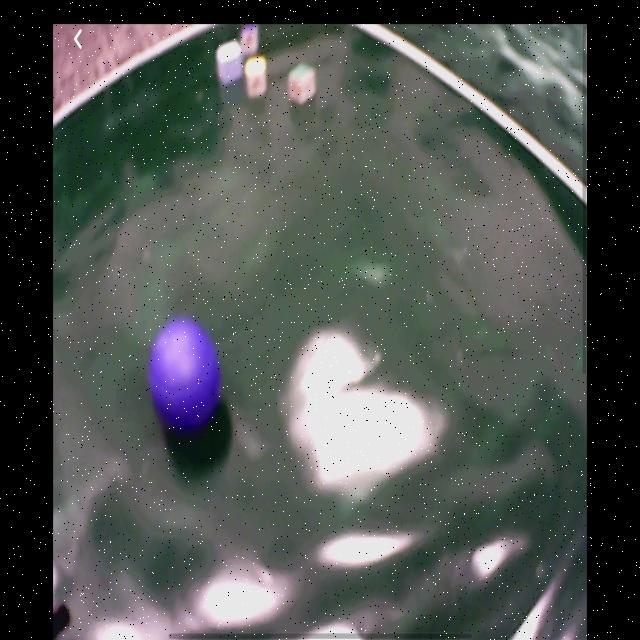ball: (148, 316, 223, 435)
